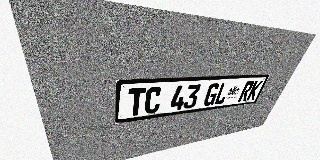3: (183, 84, 201, 109)
4: (169, 85, 188, 111)
C: (144, 86, 163, 114)
G: (202, 83, 221, 107)
K: (246, 80, 263, 101)
L: (213, 82, 231, 105)
R: (237, 81, 255, 102)
T: (127, 87, 146, 117)
